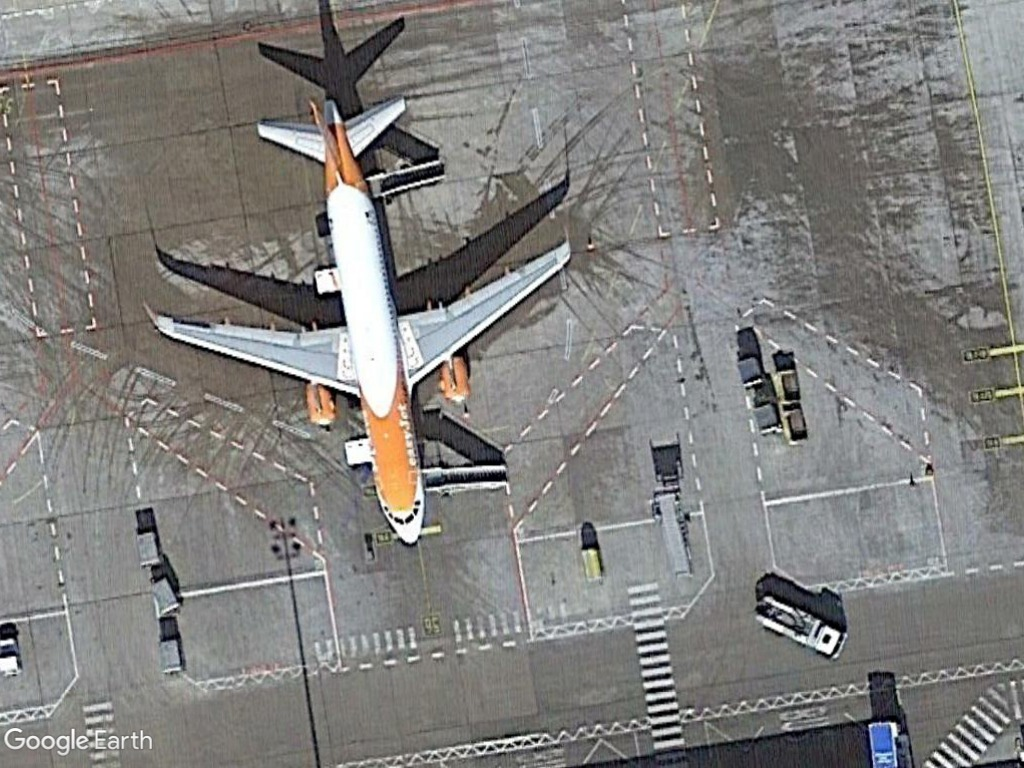airliner: (135, 83, 578, 558)
stairtruck: (367, 152, 455, 202), (420, 455, 515, 499)
